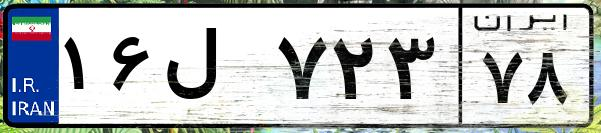1: (57, 26, 110, 100)
2: (330, 28, 385, 110)
3: (385, 28, 445, 110)
6: (110, 28, 158, 98)
7: (270, 28, 330, 110), (475, 38, 525, 113)
8: (525, 38, 570, 115)
ل: (158, 20, 270, 120)
